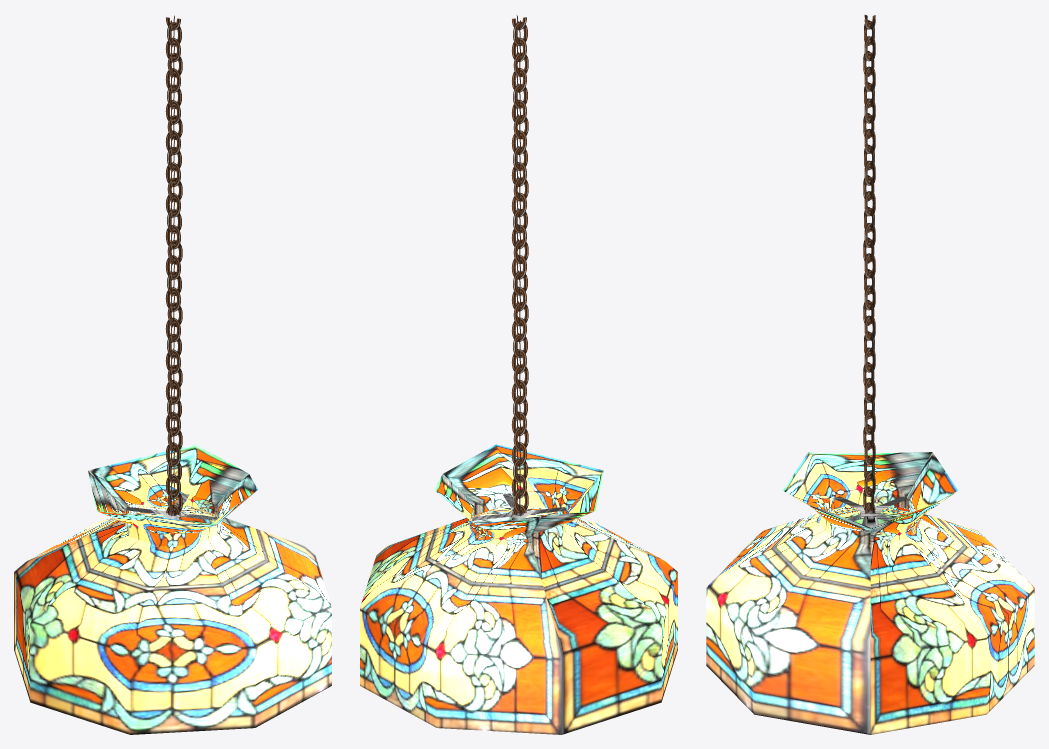
File: lamp_hanging_tiffany.fbx
The picture shows the model from 3 angles, left to right: view 1: azimuth 30°, elevation 25°; view 2: azimuth 150°, elevation 25°; view 3: azimuth 270°, elevation 25°; orthographic projection.
Parts seen in each view (by area): view 1: lamp_hanging_tiffany; view 2: lamp_hanging_tiffany; view 3: lamp_hanging_tiffany.
Boxes of the visible parts, left/top/right/bottom form: lamp_hanging_tiffany: left=14, top=15, right=331, bottom=734; lamp_hanging_tiffany: left=360, top=15, right=677, bottom=734; lamp_hanging_tiffany: left=706, top=15, right=1034, bottom=734.
Bounding box in the file's own units: 64.6 × 141 × 64.6.
Materials: 1 (1 with a texture image).
